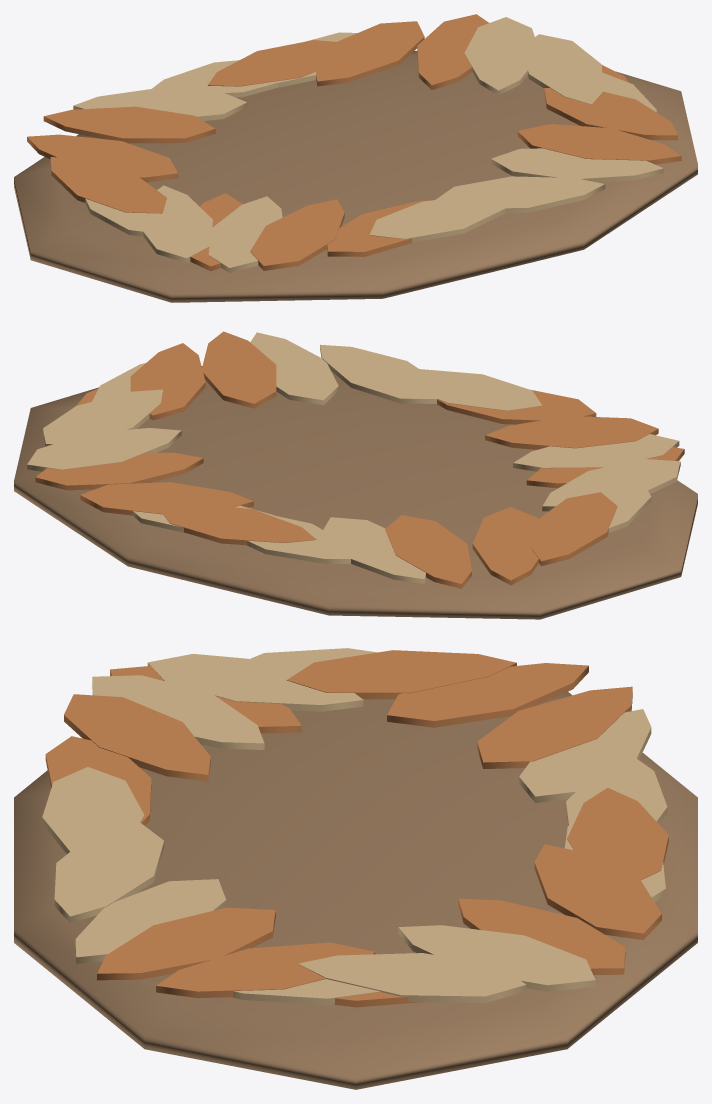
Rendered from rainforest-and-jungle-fauna-leaf-litter-mound-65fb0c60__21695.glb.
3 renders of one model, top to bottom at view 1: azimuth 30°, elevation 25°; view 2: azimuth 150°, elevation 25°; view 3: azimuth 270°, elevation 25°, orthographic. The views are drawn at different scales.
Visible parts, largest first — view 1: leaf-litter-mound; view 2: leaf-litter-mound; view 3: leaf-litter-mound.
Boxes of the visible parts, box(x1,y1,x2,y2) form: leaf-litter-mound: box(14, 14, 697, 302); leaf-litter-mound: box(14, 331, 697, 619); leaf-litter-mound: box(14, 648, 697, 1089).
Bounding box in the file's own units: 2.21 × 0.2094 × 1.5.
